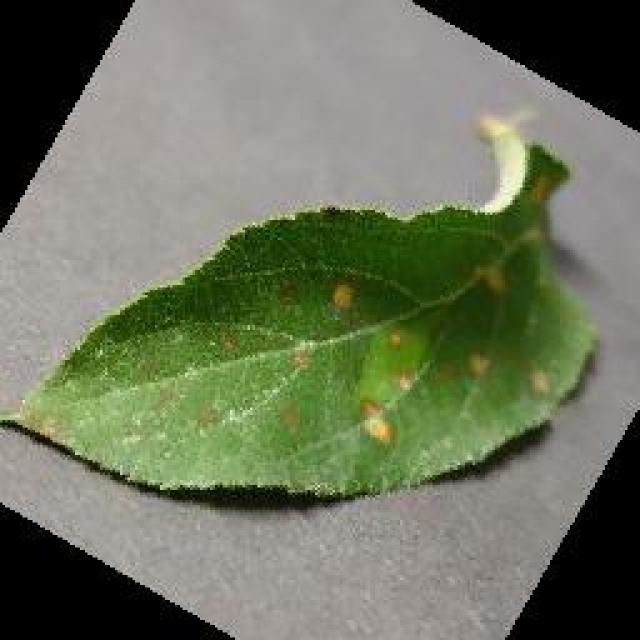apple rust disease: (0, 112, 600, 502)
